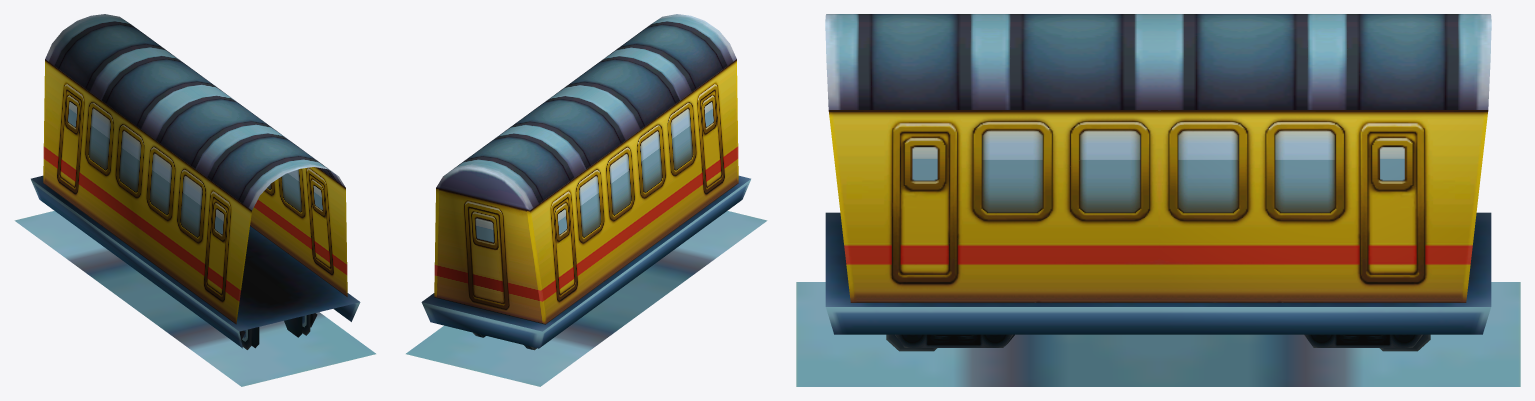
The model's file is train-standard.fbx.
3 renders of one model, left to right at view 1: azimuth 30°, elevation 25°; view 2: azimuth 150°, elevation 25°; view 3: azimuth 270°, elevation 25°, orthographic. The views are drawn at different scales.
Parts seen in each view (by area): view 1: train_standard_obj; view 2: train_standard_obj; view 3: train_standard_obj.
Part boxes in pixels (x1,y1,x2,y2): train_standard_obj: (14, 14, 375, 386); train_standard_obj: (406, 14, 767, 386); train_standard_obj: (796, 14, 1520, 386).
Bounding box in the file's own units: 2058 × 2839 × 6000.
1 material, 1 textured.
